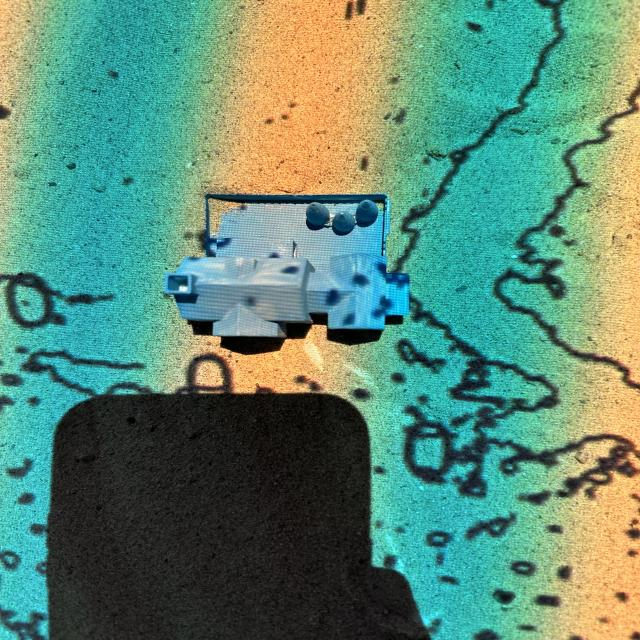house: (163, 193, 410, 339)
